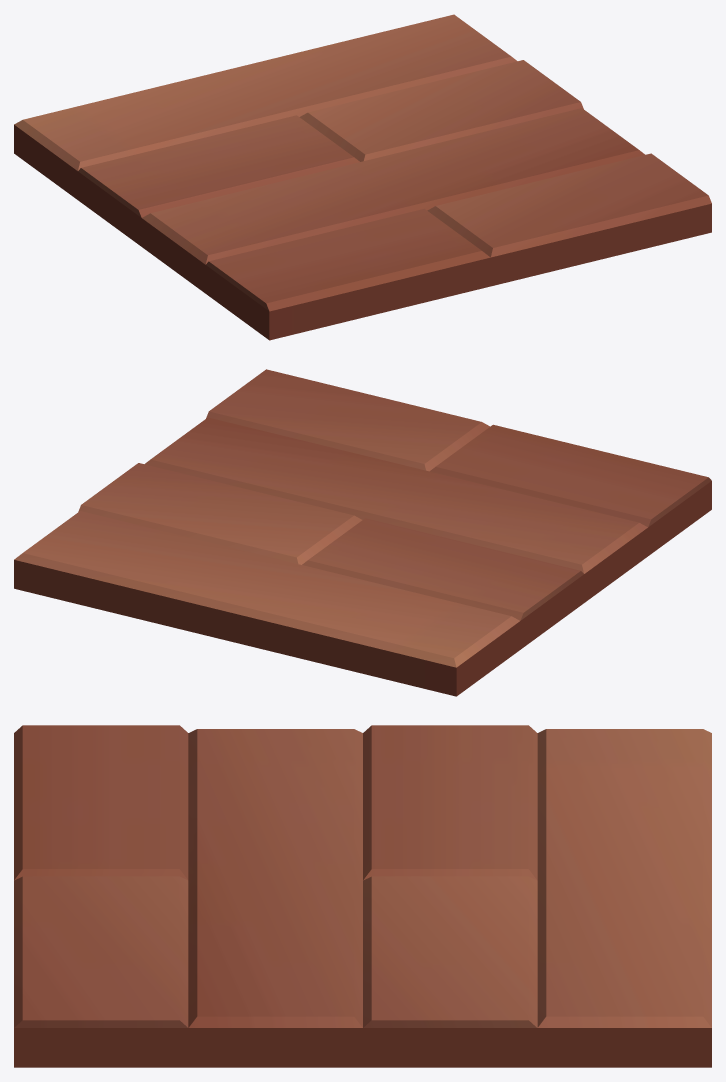
File: floor_wood_small.glb
3 renders of one model, top to bottom at view 1: azimuth 30°, elevation 25°; view 2: azimuth 150°, elevation 25°; view 3: azimuth 270°, elevation 25°, orthographic. The views are drawn at different scales.
Visible parts, largest first — view 1: floor_wood_small; view 2: floor_wood_small; view 3: floor_wood_small.
Part boxes in pixels (left/top/right/bottom): floor_wood_small: left=14, top=14, right=711, bottom=340; floor_wood_small: left=14, top=369, right=711, bottom=696; floor_wood_small: left=14, top=725, right=711, bottom=1067.
Bounding box in the file's own units: 2 × 0.1499 × 2.
Materials: 1 (1 with a texture image).
